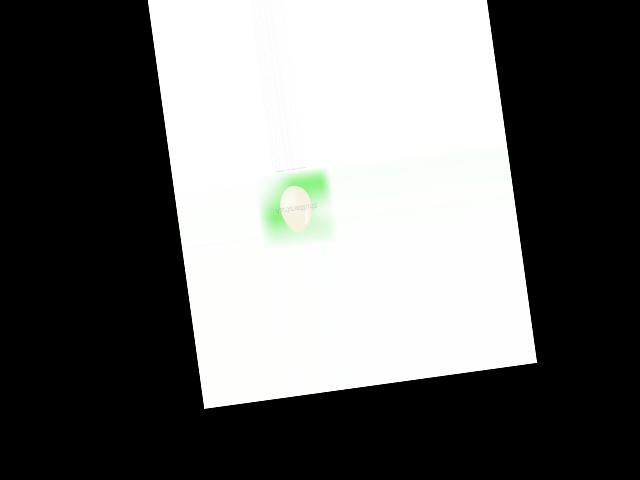egg: (277, 184, 314, 234)
